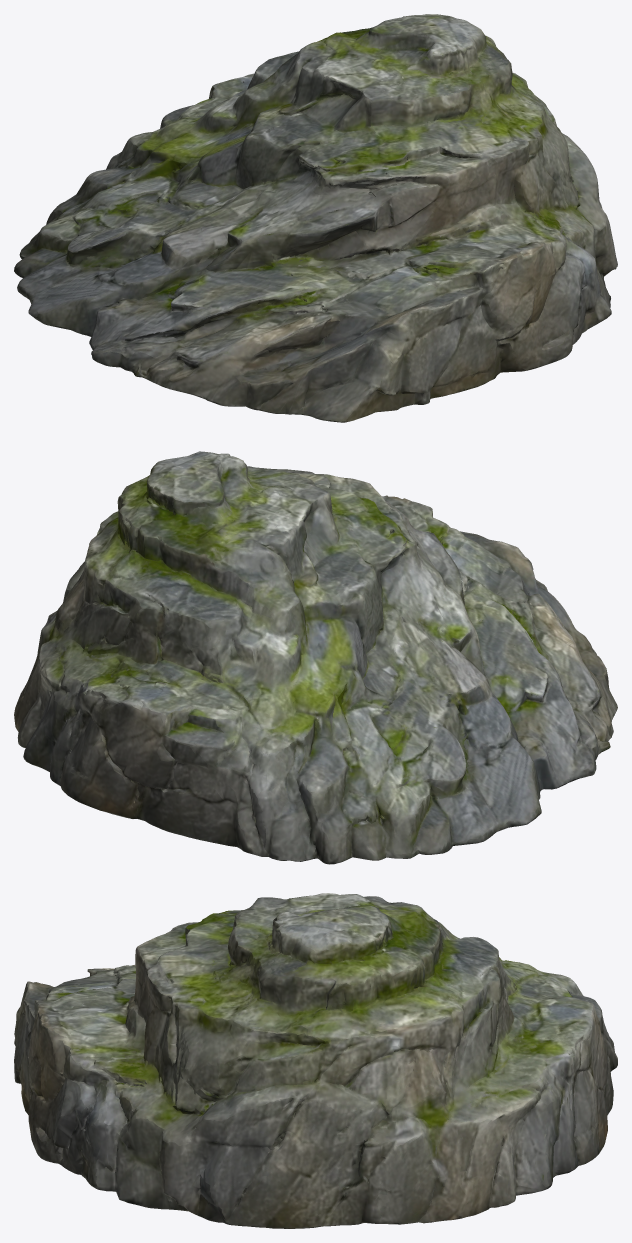
Rendered from rocky-hill-v001.glb.
The picture shows the model from 3 angles, top to bottom: view 1: azimuth 30°, elevation 25°; view 2: azimuth 150°, elevation 25°; view 3: azimuth 270°, elevation 25°; orthographic projection. The views are drawn at different scales.
Parts seen in each view (by area): view 1: geometry_0; view 2: geometry_0; view 3: geometry_0.
Boxes of the visible parts, x1,y1,x2,y2 form: geometry_0: (14, 14, 617, 422); geometry_0: (14, 451, 617, 864); geometry_0: (14, 893, 617, 1228).
Bounding box in the file's own units: 8 × 3.57 × 8.
1 material, 1 textured.
